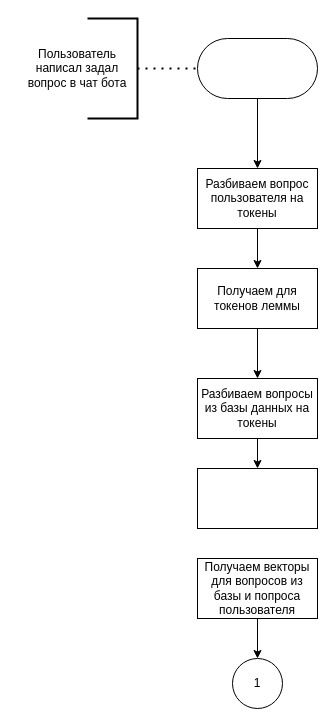
Some shapes in this 335 by 726 pixel diagram are drawn without their labels. Here are the shapes that lost their labels. From the top down, the centre of each, then its label:
At pixel 257 68: "Вход".
At pixel 257 498: "Получаем леммы для каждого вопроса".
